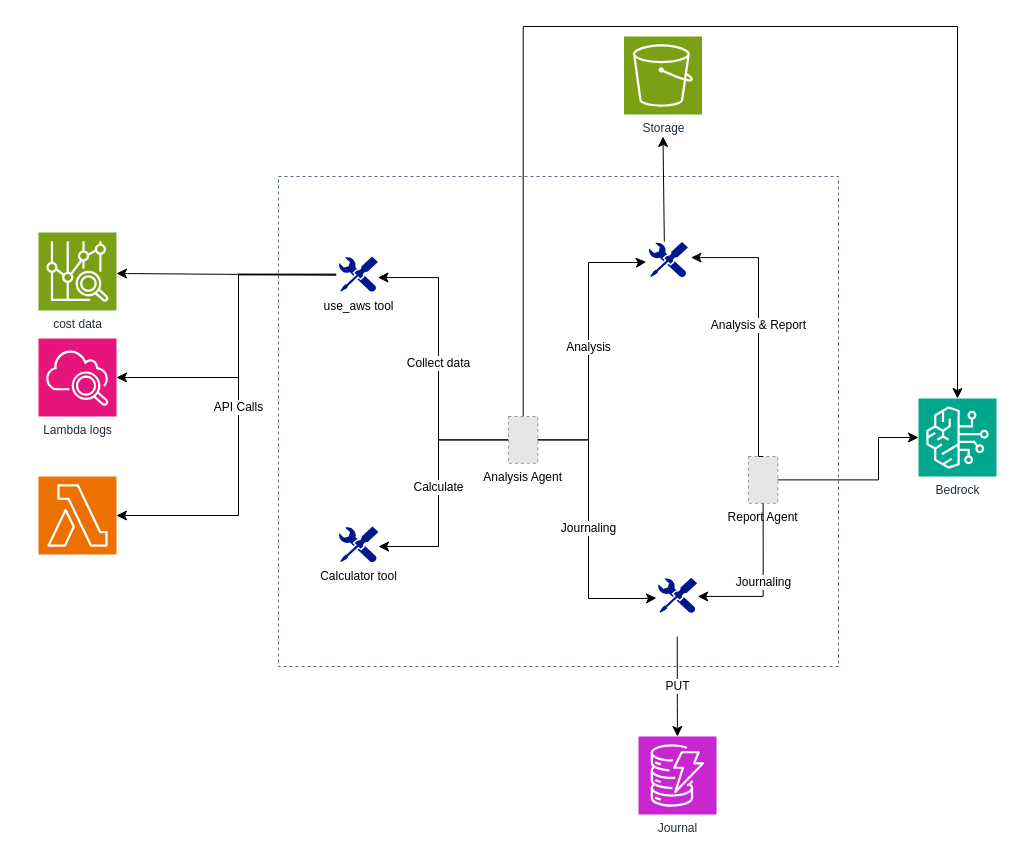
This 1014x853 diagram has some shape labels left out. Grey dashed boxes stand in for pictures. Here are the shapes that lost their labels. From the top down, the box of each, then its label:
(648, 241, 688, 277): Storage tool
(278, 176, 838, 666): Agentcore Runtime
(38, 476, 116, 554): Lamdba configurations
(657, 577, 697, 613): Journal Tool
